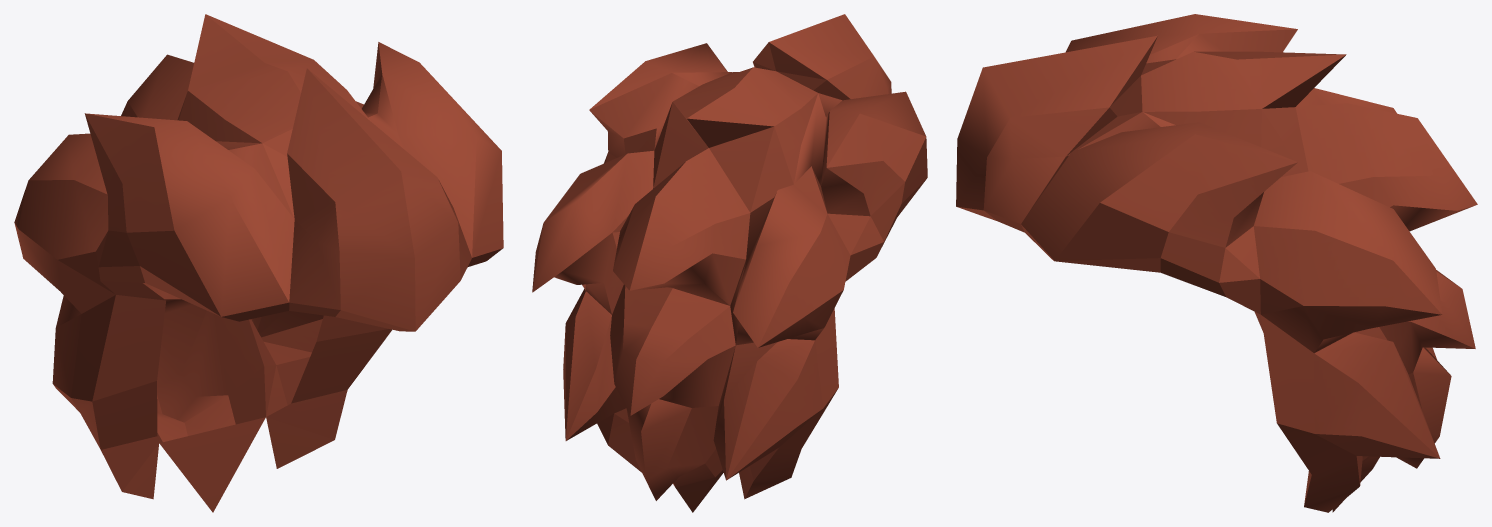
File: Hair_Brown_19.fbx
3 renders of one model, left to right at view 1: azimuth 30°, elevation 25°; view 2: azimuth 150°, elevation 25°; view 3: azimuth 270°, elevation 25°, orthographic. The views are drawn at different scales.
Parts seen in each view (by area): view 1: Hair_Brown_19; view 2: Hair_Brown_19; view 3: Hair_Brown_19.
Part boxes in pixels (x1=…): Hair_Brown_19: x1=14, y1=14, x2=503, y2=512; Hair_Brown_19: x1=532, y1=14, x2=927, y2=512; Hair_Brown_19: x1=956, y1=14, x2=1477, y2=512.
Size of the model in its own units: 47.08 by 65.84 by 65.25.
